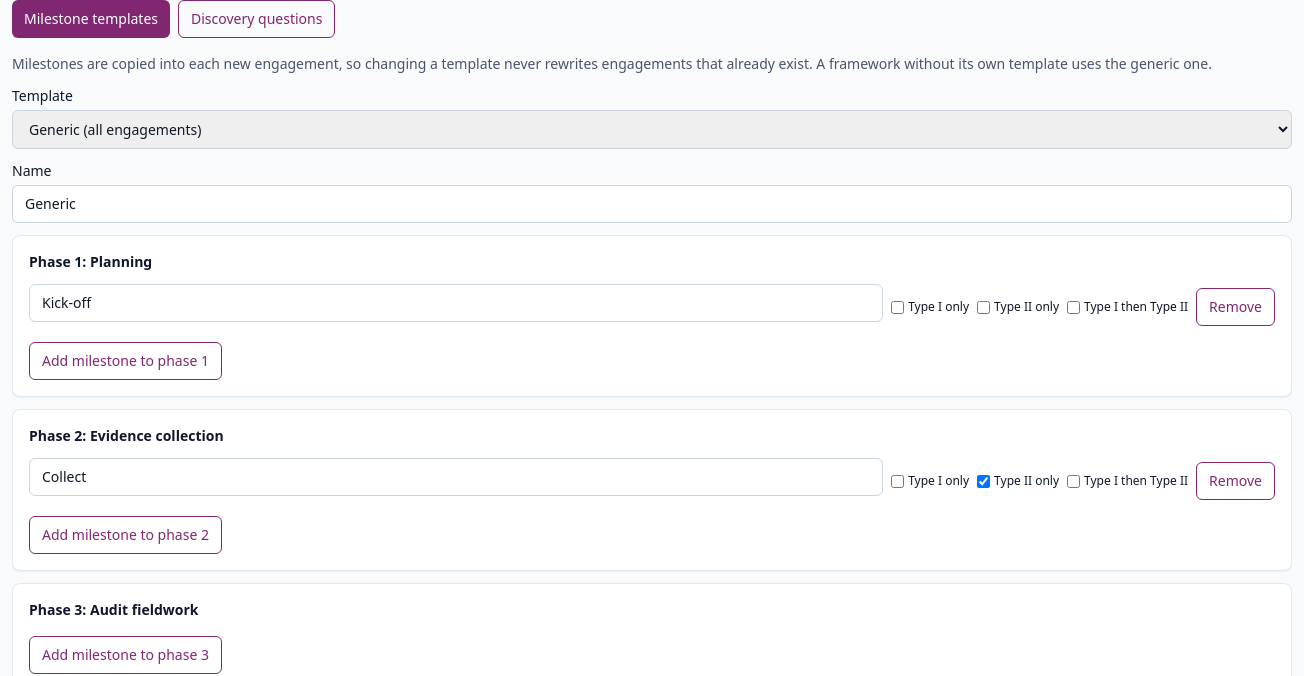
Scenario: templates: shows the generic template by phase, edits and saves exactly what changed
Expected: the field showing "Kick-off" is shown, [29, 284, 883, 322]
Expected: the 2nd checkbox labelled "Type II only" is checked, [977, 474, 990, 488]
Click the button "Add milestone to phase 1": click(126, 361) [29, 342, 222, 380]
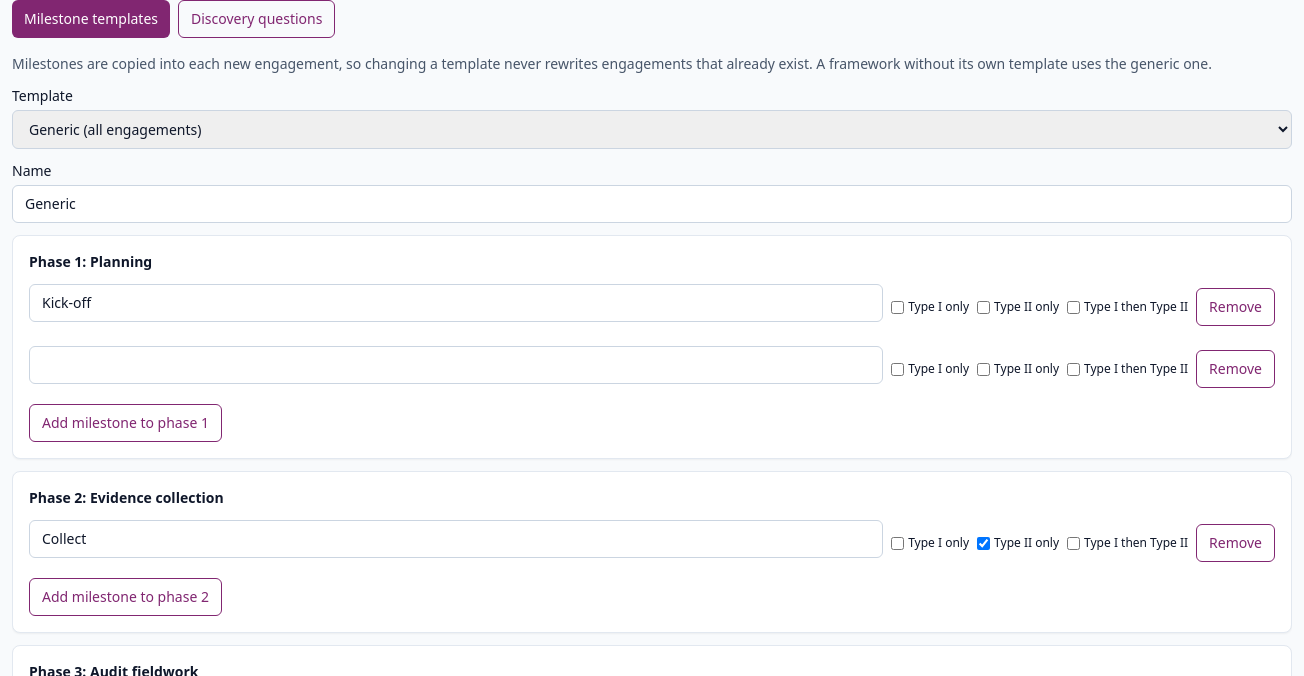
In the field named "Milestone 3 title": (456, 365) [29, 346, 883, 384], type "Sign NDA"
(page scrolled)
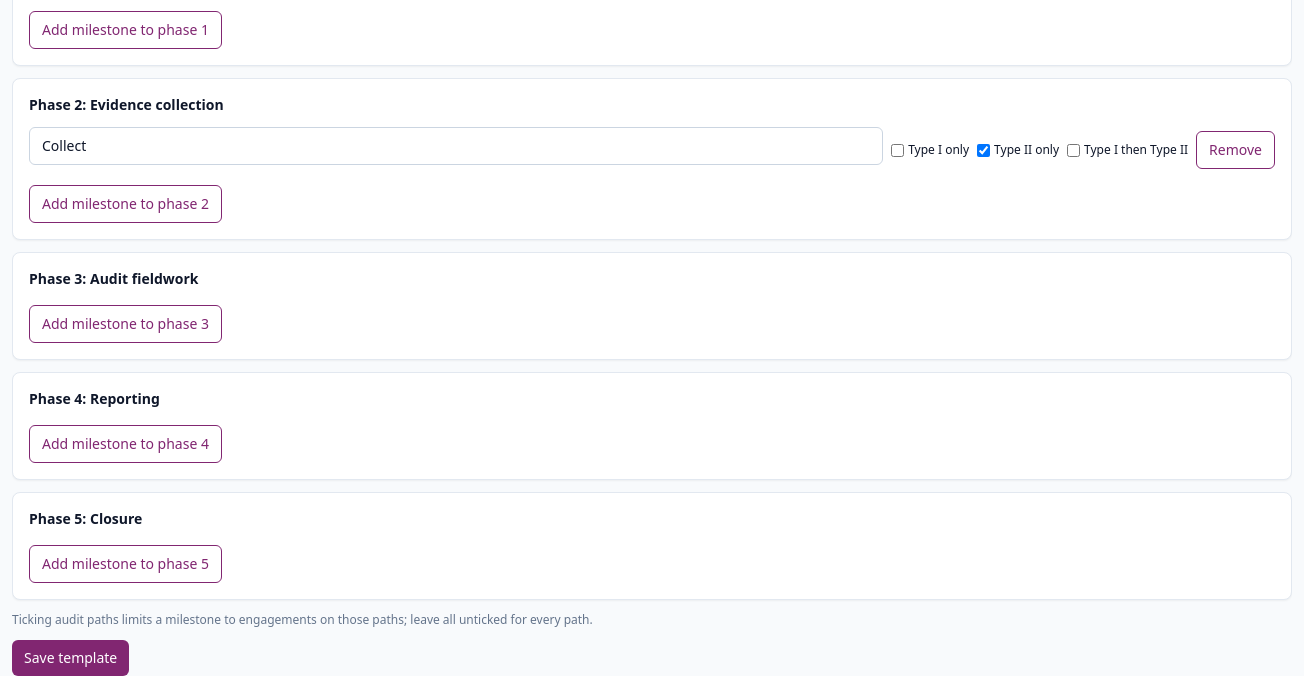
Click the button "Save template": click(71, 658) [12, 640, 129, 675]
(page scrolled)
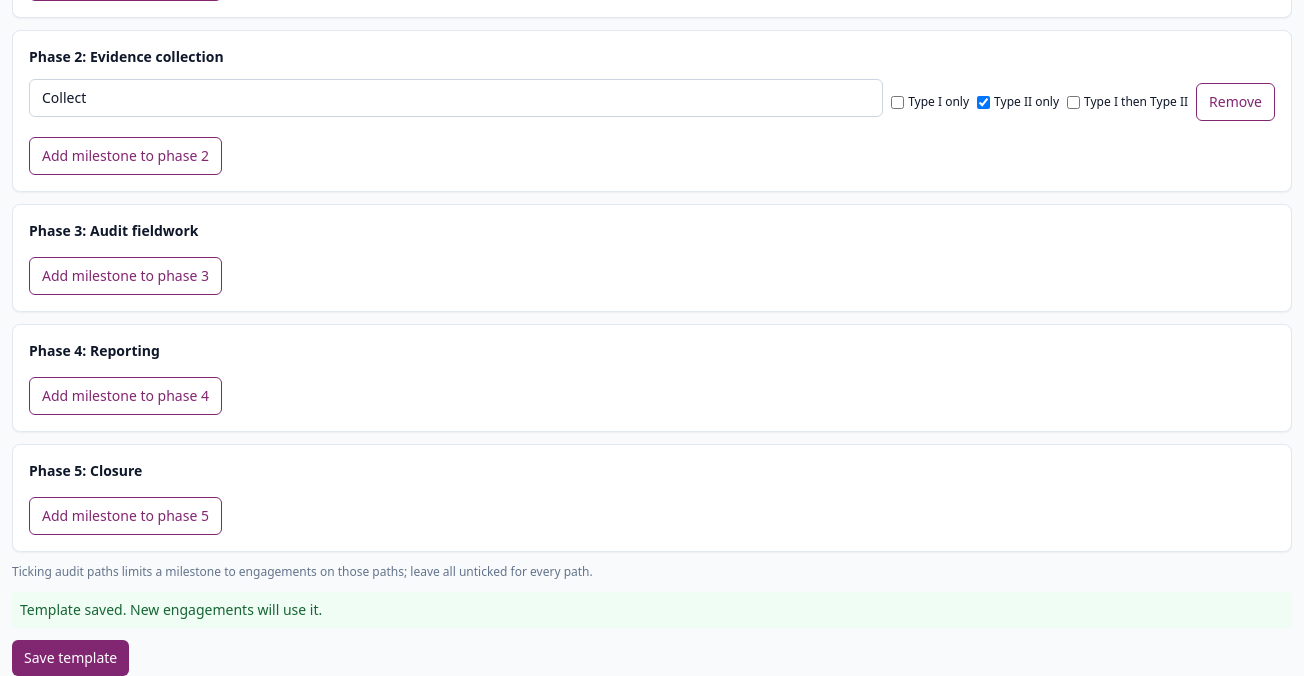
Now the text "Template saved. New engagements will use it." is shown, box [12, 592, 1292, 628]
